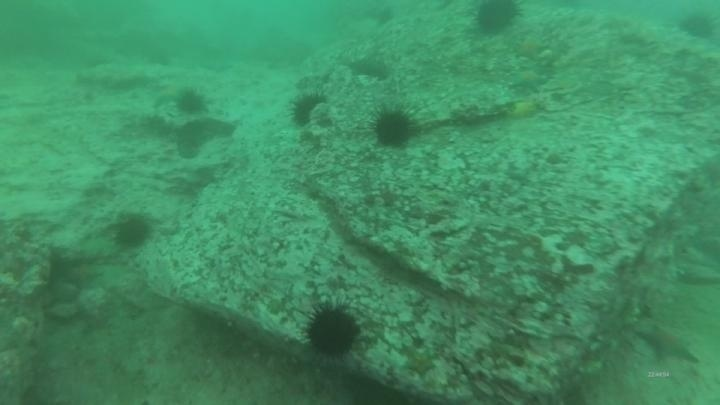echinus: (301, 300, 364, 362), (370, 106, 417, 150), (471, 1, 524, 38), (287, 89, 329, 128), (112, 212, 153, 251), (677, 10, 717, 42), (173, 87, 209, 118)
starfish: (635, 321, 701, 367), (61, 259, 104, 291), (507, 67, 550, 93), (149, 81, 188, 109), (402, 349, 438, 378), (512, 33, 549, 61)
